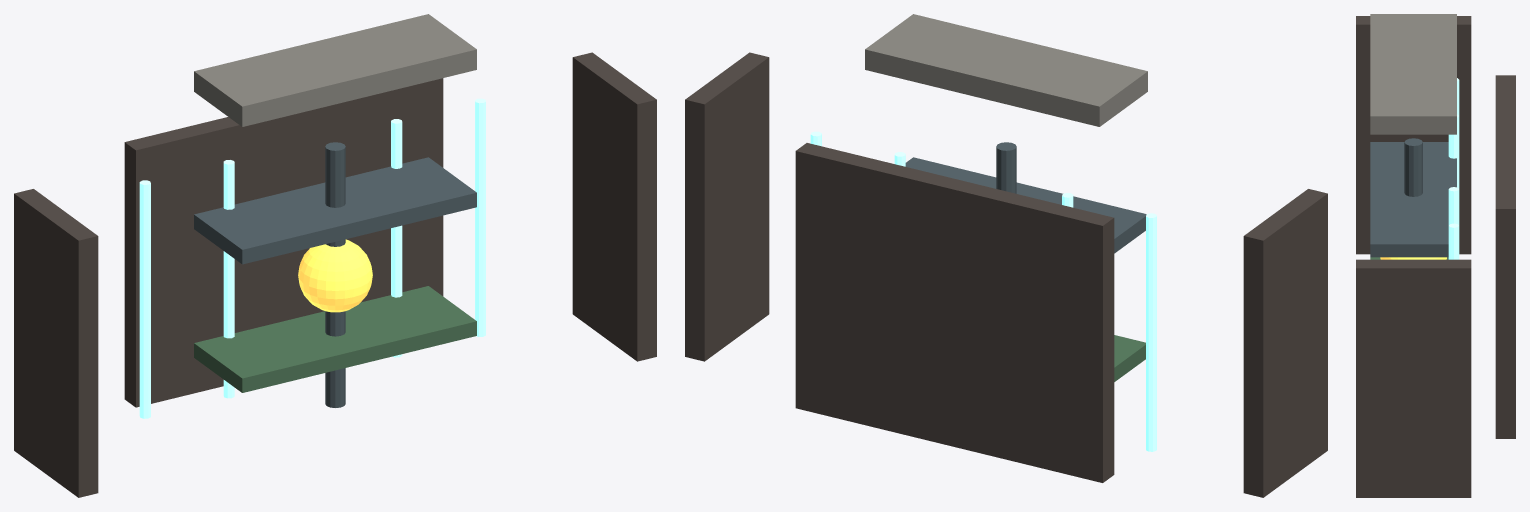
File: caligo_cutaway.gltf
3 renders of one model, left to right at view 1: azimuth 30°, elevation 25°; view 2: azimuth 150°, elevation 25°; view 3: azimuth 270°, elevation 25°, orthographic. The views are drawn at different scales.
Visible parts, largest first — view 1: cutaway_crust_back, cutaway_crust_left, cutaway_crust_right, crown_surface, underworks_floor, inner_rim_floor, artificial_sun, habitat_support_m3.0, artificial_sun_spine, habitat_support_3.0, habitat_support_m1.5, habitat_support_1.5; view 2: cutaway_crust_back, cutaway_crust_left, cutaway_crust_right, crown_surface, underworks_floor, habitat_support_m3.0, inner_rim_floor, artificial_sun_spine; view 3: cutaway_crust_right, crown_surface, underworks_floor, cutaway_crust_back, cutaway_crust_left, artificial_sun_spine, habitat_support_1.5, habitat_support_m1.5, habitat_support_3.0, artificial_sun.
Part boxes in pixels (x1=…): cutaway_crust_back: x1=124, y1=78, x2=443, y2=407; cutaway_crust_left: x1=14, y1=189, x2=98, y2=497; cutaway_crust_right: x1=572, y1=52, x2=656, y2=361; crown_surface: x1=194, y1=14, x2=476, y2=126; underworks_floor: x1=194, y1=157, x2=476, y2=264; inner_rim_floor: x1=194, y1=286, x2=476, y2=392; artificial_sun: x1=298, y1=239, x2=372, y2=312; habitat_support_m3.0: x1=139, y1=180, x2=150, y2=418; artificial_sun_spine: x1=325, y1=142, x2=345, y2=407; habitat_support_3.0: x1=475, y1=98, x2=485, y2=336; habitat_support_m1.5: x1=223, y1=160, x2=234, y2=398; habitat_support_1.5: x1=391, y1=119, x2=402, y2=357; cutaway_crust_back: x1=795, y1=143, x2=1114, y2=482; cutaway_crust_left: x1=1243, y1=189, x2=1327, y2=497; cutaway_crust_right: x1=685, y1=52, x2=769, y2=361; crown_surface: x1=865, y1=14, x2=1147, y2=126; underworks_floor: x1=905, y1=157, x2=1146, y2=253; habitat_support_m3.0: x1=1146, y1=213, x2=1156, y2=451; inner_rim_floor: x1=1114, y1=335, x2=1145, y2=381; artificial_sun_spine: x1=996, y1=142, x2=1016, y2=193; cutaway_crust_right: x1=1356, y1=259, x2=1471, y2=497; crown_surface: x1=1370, y1=14, x2=1456, y2=134; underworks_floor: x1=1370, y1=142, x2=1456, y2=257; cutaway_crust_back: x1=1495, y1=75, x2=1515, y2=438; cutaway_crust_left: x1=1356, y1=16, x2=1471, y2=254; artificial_sun_spine: x1=1404, y1=138, x2=1422, y2=196; habitat_support_1.5: x1=1448, y1=187, x2=1459, y2=225; habitat_support_m1.5: x1=1448, y1=114, x2=1459, y2=188; habitat_support_3.0: x1=1448, y1=223, x2=1459, y2=259; artificial_sun: x1=1380, y1=257, x2=1446, y2=259.
Size of the model in its own units: 10.35 by 5.88 by 2.78.
